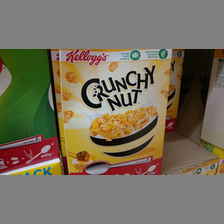cereal: (59, 49, 171, 174)
